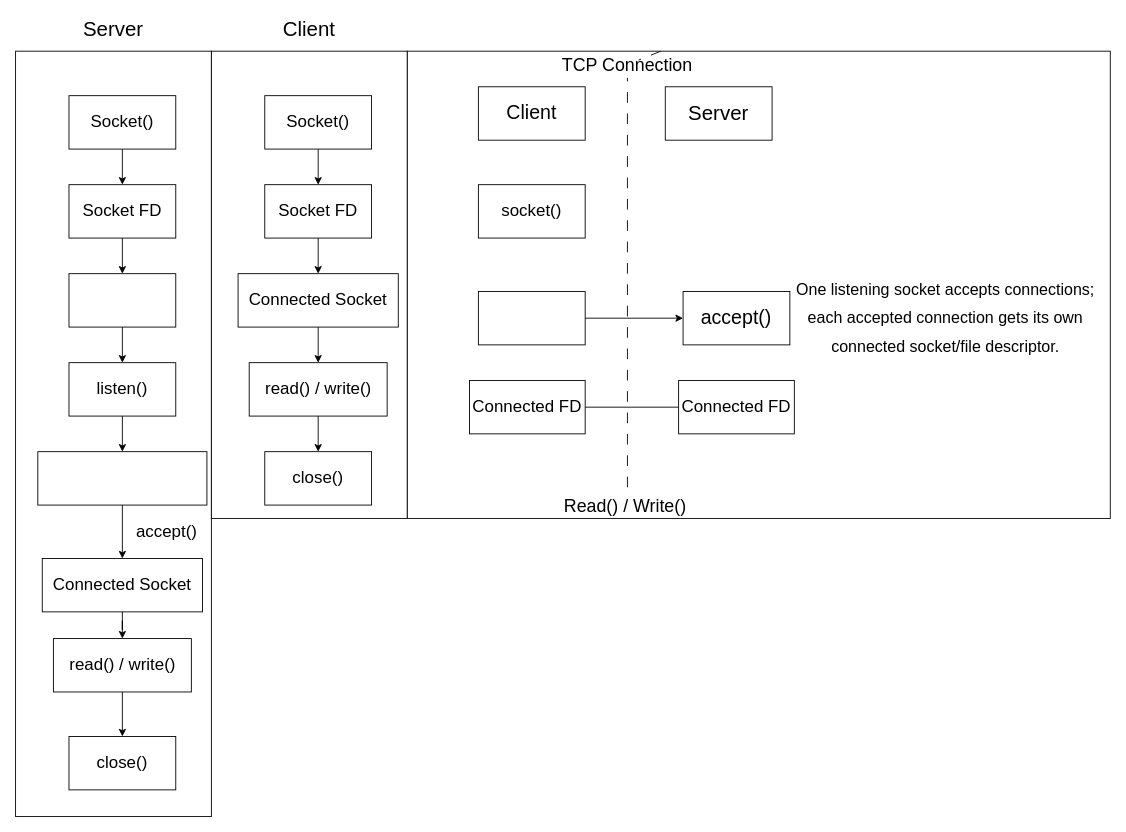
The diagram is 1126 pixels wide and 832 high, and some of its shapes have lost their labels. Here are the shapes that lost their labels. From the top down, the centre of each, then its label:
point 122,300: bindt()
point 531,318: connect()
point 122,478: Listening Socket
